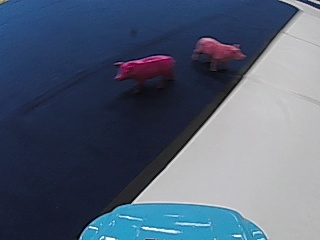pig: (111, 51, 174, 93), (191, 33, 247, 72)
